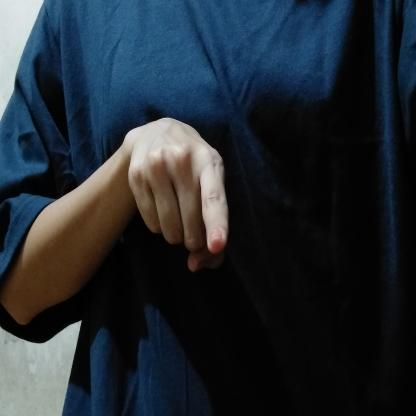you: (120, 108, 238, 276)
